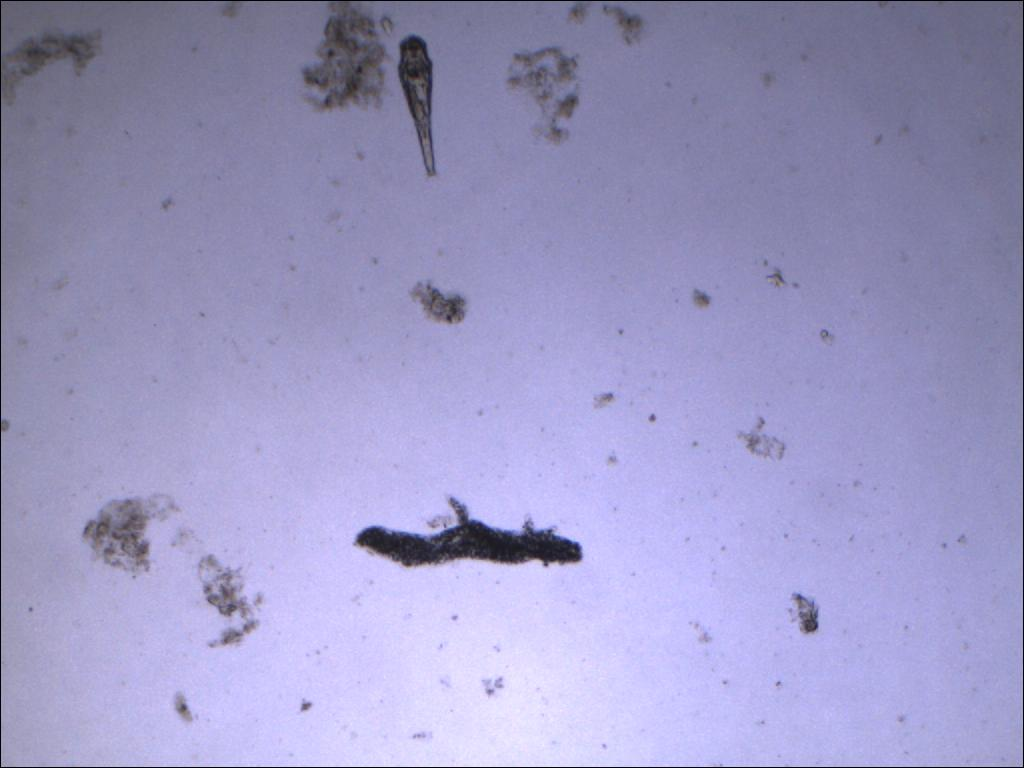amoeba: (353, 492, 592, 579)
